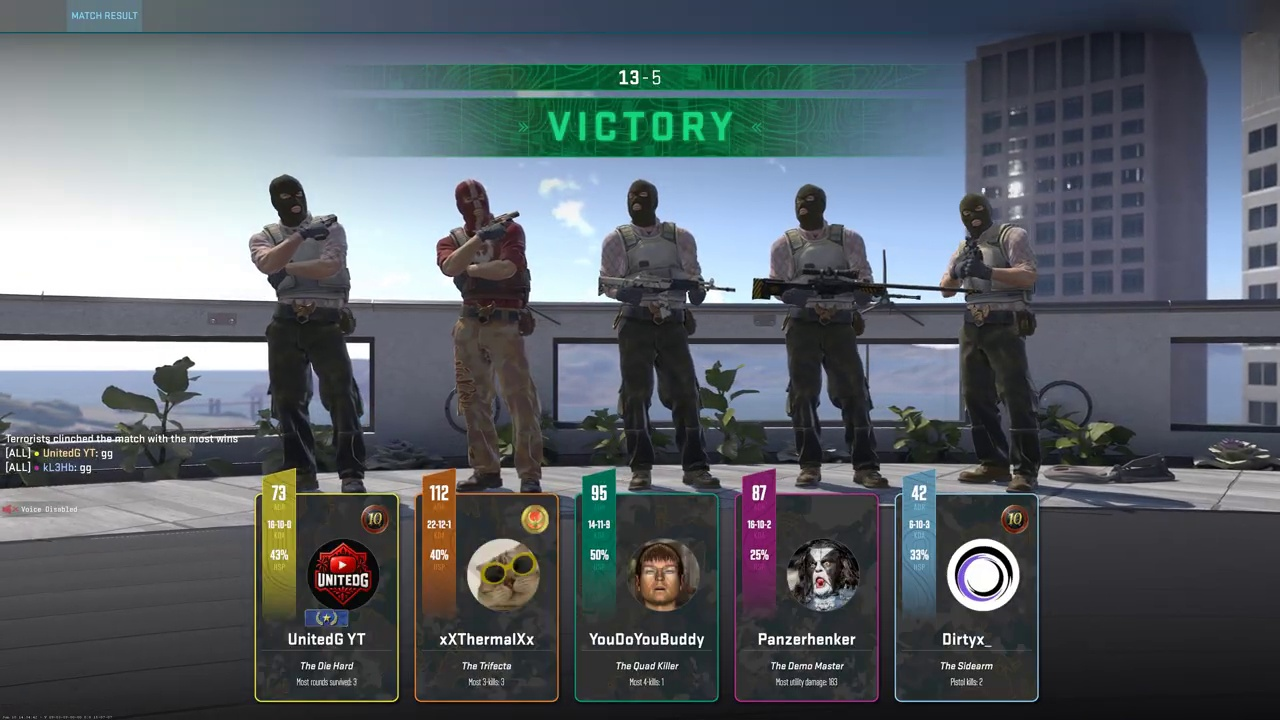Terrorist: (256, 176, 363, 484), (609, 184, 712, 484), (776, 185, 872, 491), (440, 184, 533, 483), (948, 194, 1032, 483)
